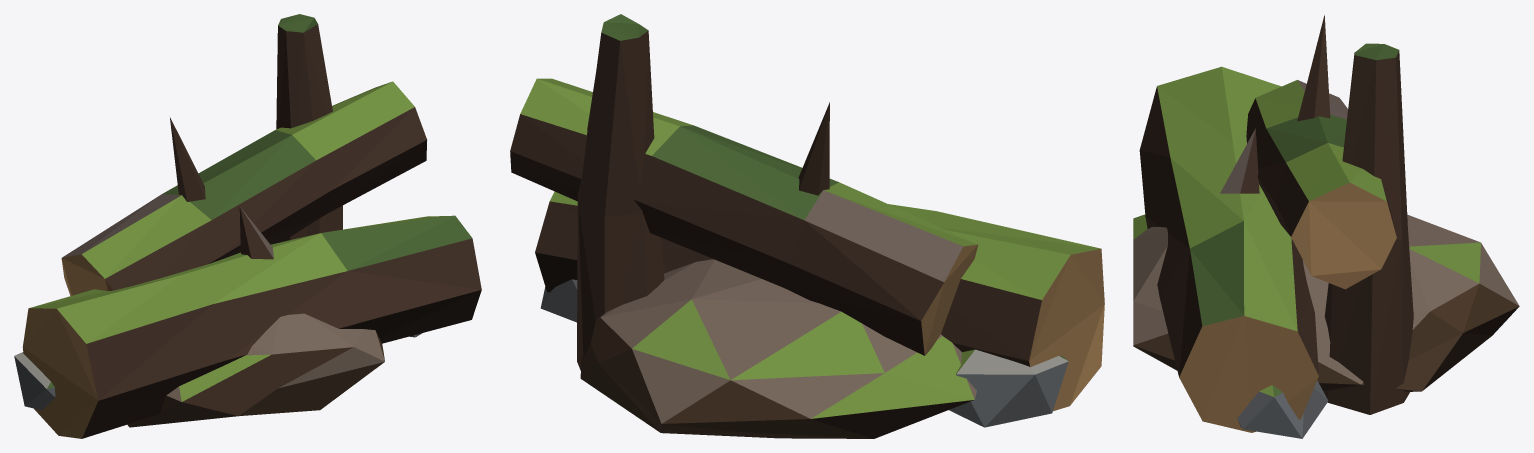
Rendered from SM_Rim_Log_A.fbx.
3 renders of one model, left to right at view 1: azimuth 30°, elevation 25°; view 2: azimuth 150°, elevation 25°; view 3: azimuth 270°, elevation 25°, orthographic. The views are drawn at different scales.
Parts seen in each view (by area): view 1: SM_Rim_Log_A; view 2: SM_Rim_Log_A; view 3: SM_Rim_Log_A.
Boxes of the visible parts, box(x1,y1,x2,y2) form: SM_Rim_Log_A: box(14, 14, 481, 438); SM_Rim_Log_A: box(510, 14, 1104, 438); SM_Rim_Log_A: box(1133, 15, 1519, 438).
Bounding box in the file's own units: 5.25 × 3.59 × 3.59.
